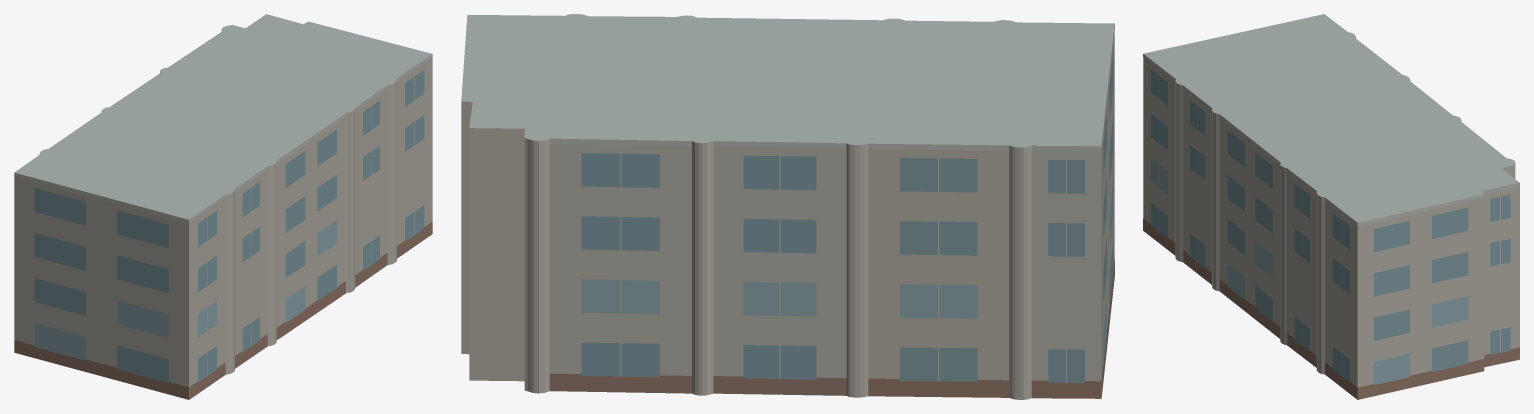
File: survey-upis-32972297.glb
The picture shows the model from 3 angles, left to right: view 1: azimuth 30°, elevation 25°; view 2: azimuth 150°, elevation 25°; view 3: azimuth 270°, elevation 25°; orthographic projection. The views are drawn at different scales.
Visible parts, largest first — view 1: survey-upis-32972297.tmp; view 2: survey-upis-32972297.tmp; view 3: survey-upis-32972297.tmp.
Boxes of the visible parts, <box> form: survey-upis-32972297.tmp: <box>14,14,432,399</box>; survey-upis-32972297.tmp: <box>461,14,1114,399</box>; survey-upis-32972297.tmp: <box>1143,14,1519,399</box>.
Size of the model in its own units: 30.62 by 12.1 by 23.34.
